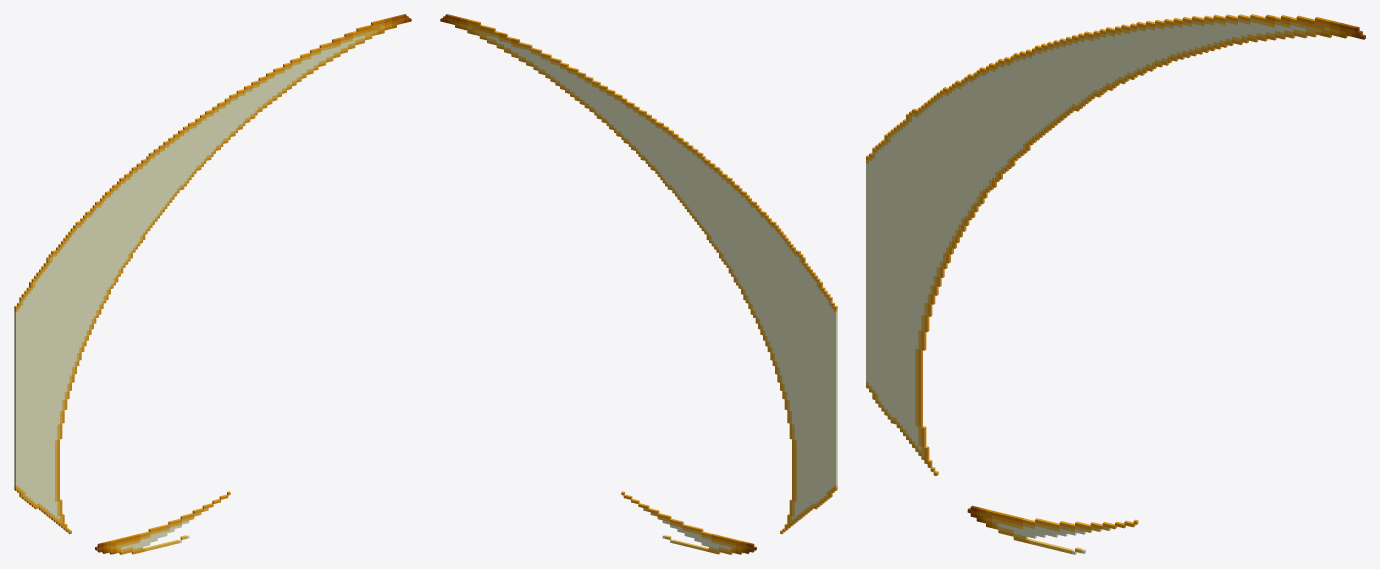
Rendered from Fight_115_2_09_fx.obj.
The picture shows the model from 3 angles, left to right: view 1: azimuth 30°, elevation 25°; view 2: azimuth 150°, elevation 25°; view 3: azimuth 330°, elevation 25°; orthographic projection. The views are drawn at different scales.
Bounding box in the file's own units: 16.2 × 18.5 × 0.1.
1 material, 1 textured.
